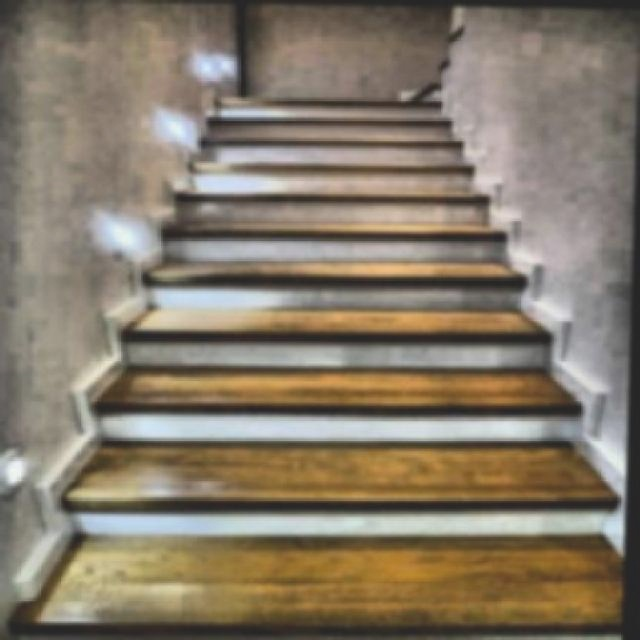stair: (28, 90, 637, 639)
